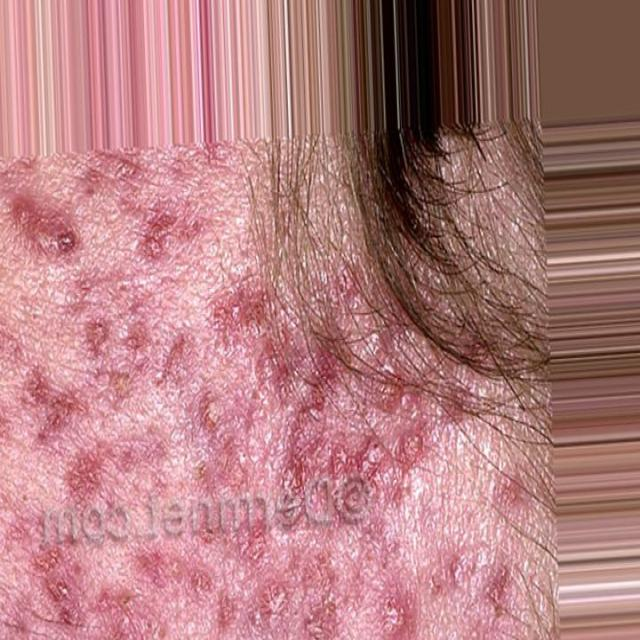acne: (23, 192, 168, 436), (252, 474, 426, 640)
